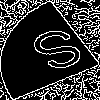S: (25, 24, 96, 82)
